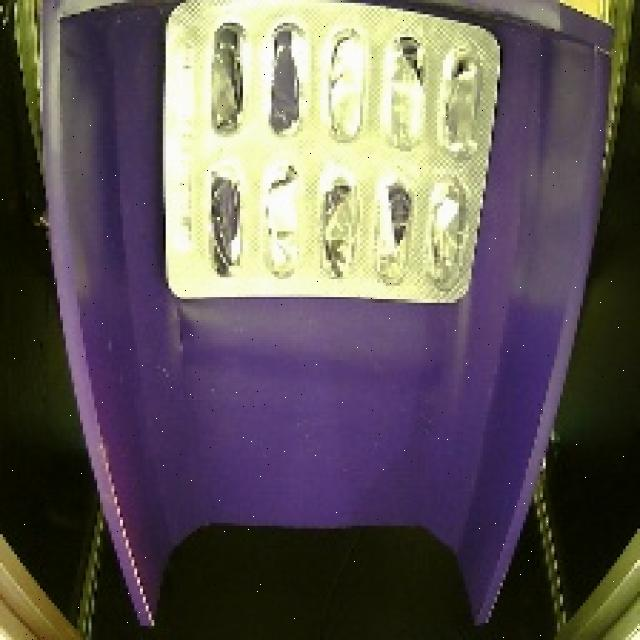med_plate: (149, 0, 523, 332)
